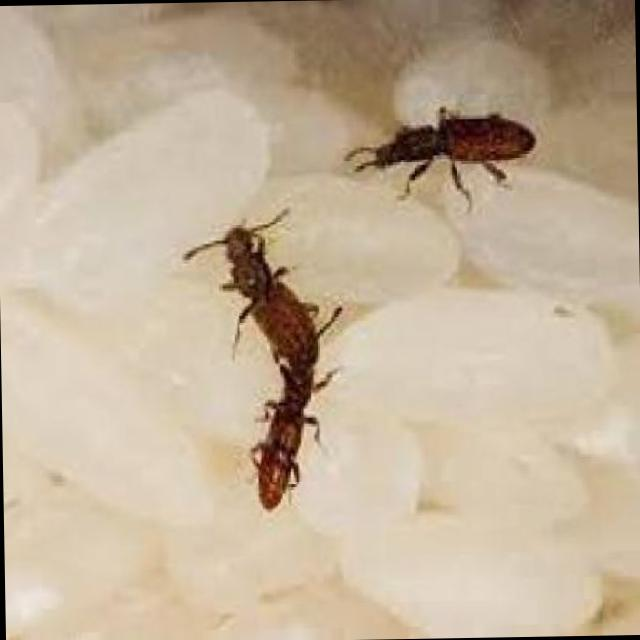rice-bug: (180, 227, 325, 514), (361, 105, 539, 176)
